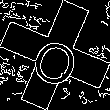O_NE: (25, 23, 85, 87)
